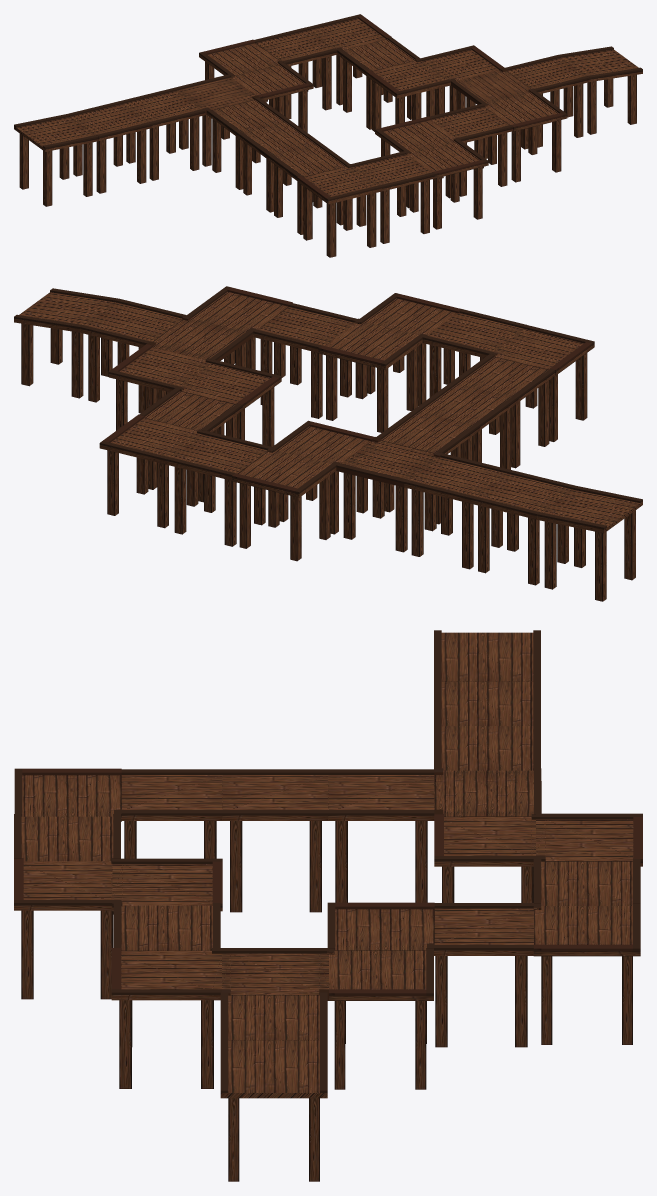
File: Harbor.fbx
The picture shows the model from 3 angles, top to bottom: view 1: azimuth 30°, elevation 25°; view 2: azimuth 150°, elevation 25°; view 3: azimuth 270°, elevation 25°; orthographic projection. The views are drawn at different scales.
Parts seen in each view (by area): view 1: polySurface20; view 2: polySurface20; view 3: polySurface20.
Part boxes in pixels (x1,y1,x2,y2): polySurface20: (14, 14, 642, 257); polySurface20: (14, 286, 642, 601); polySurface20: (14, 630, 642, 1181).
Size of the model in its own units: 60.03 by 6.72 by 35.58.
Materials: 3 (3 with a texture image).
